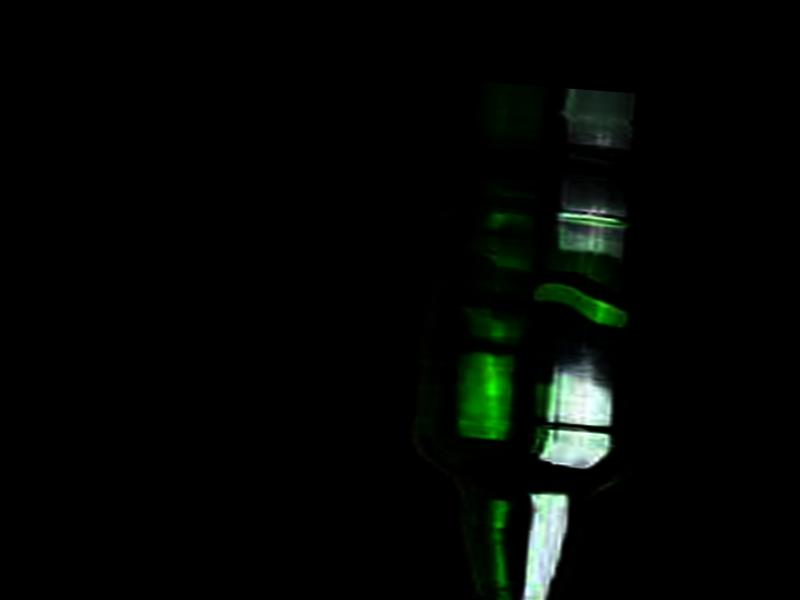Beer: (394, 199, 631, 600)
